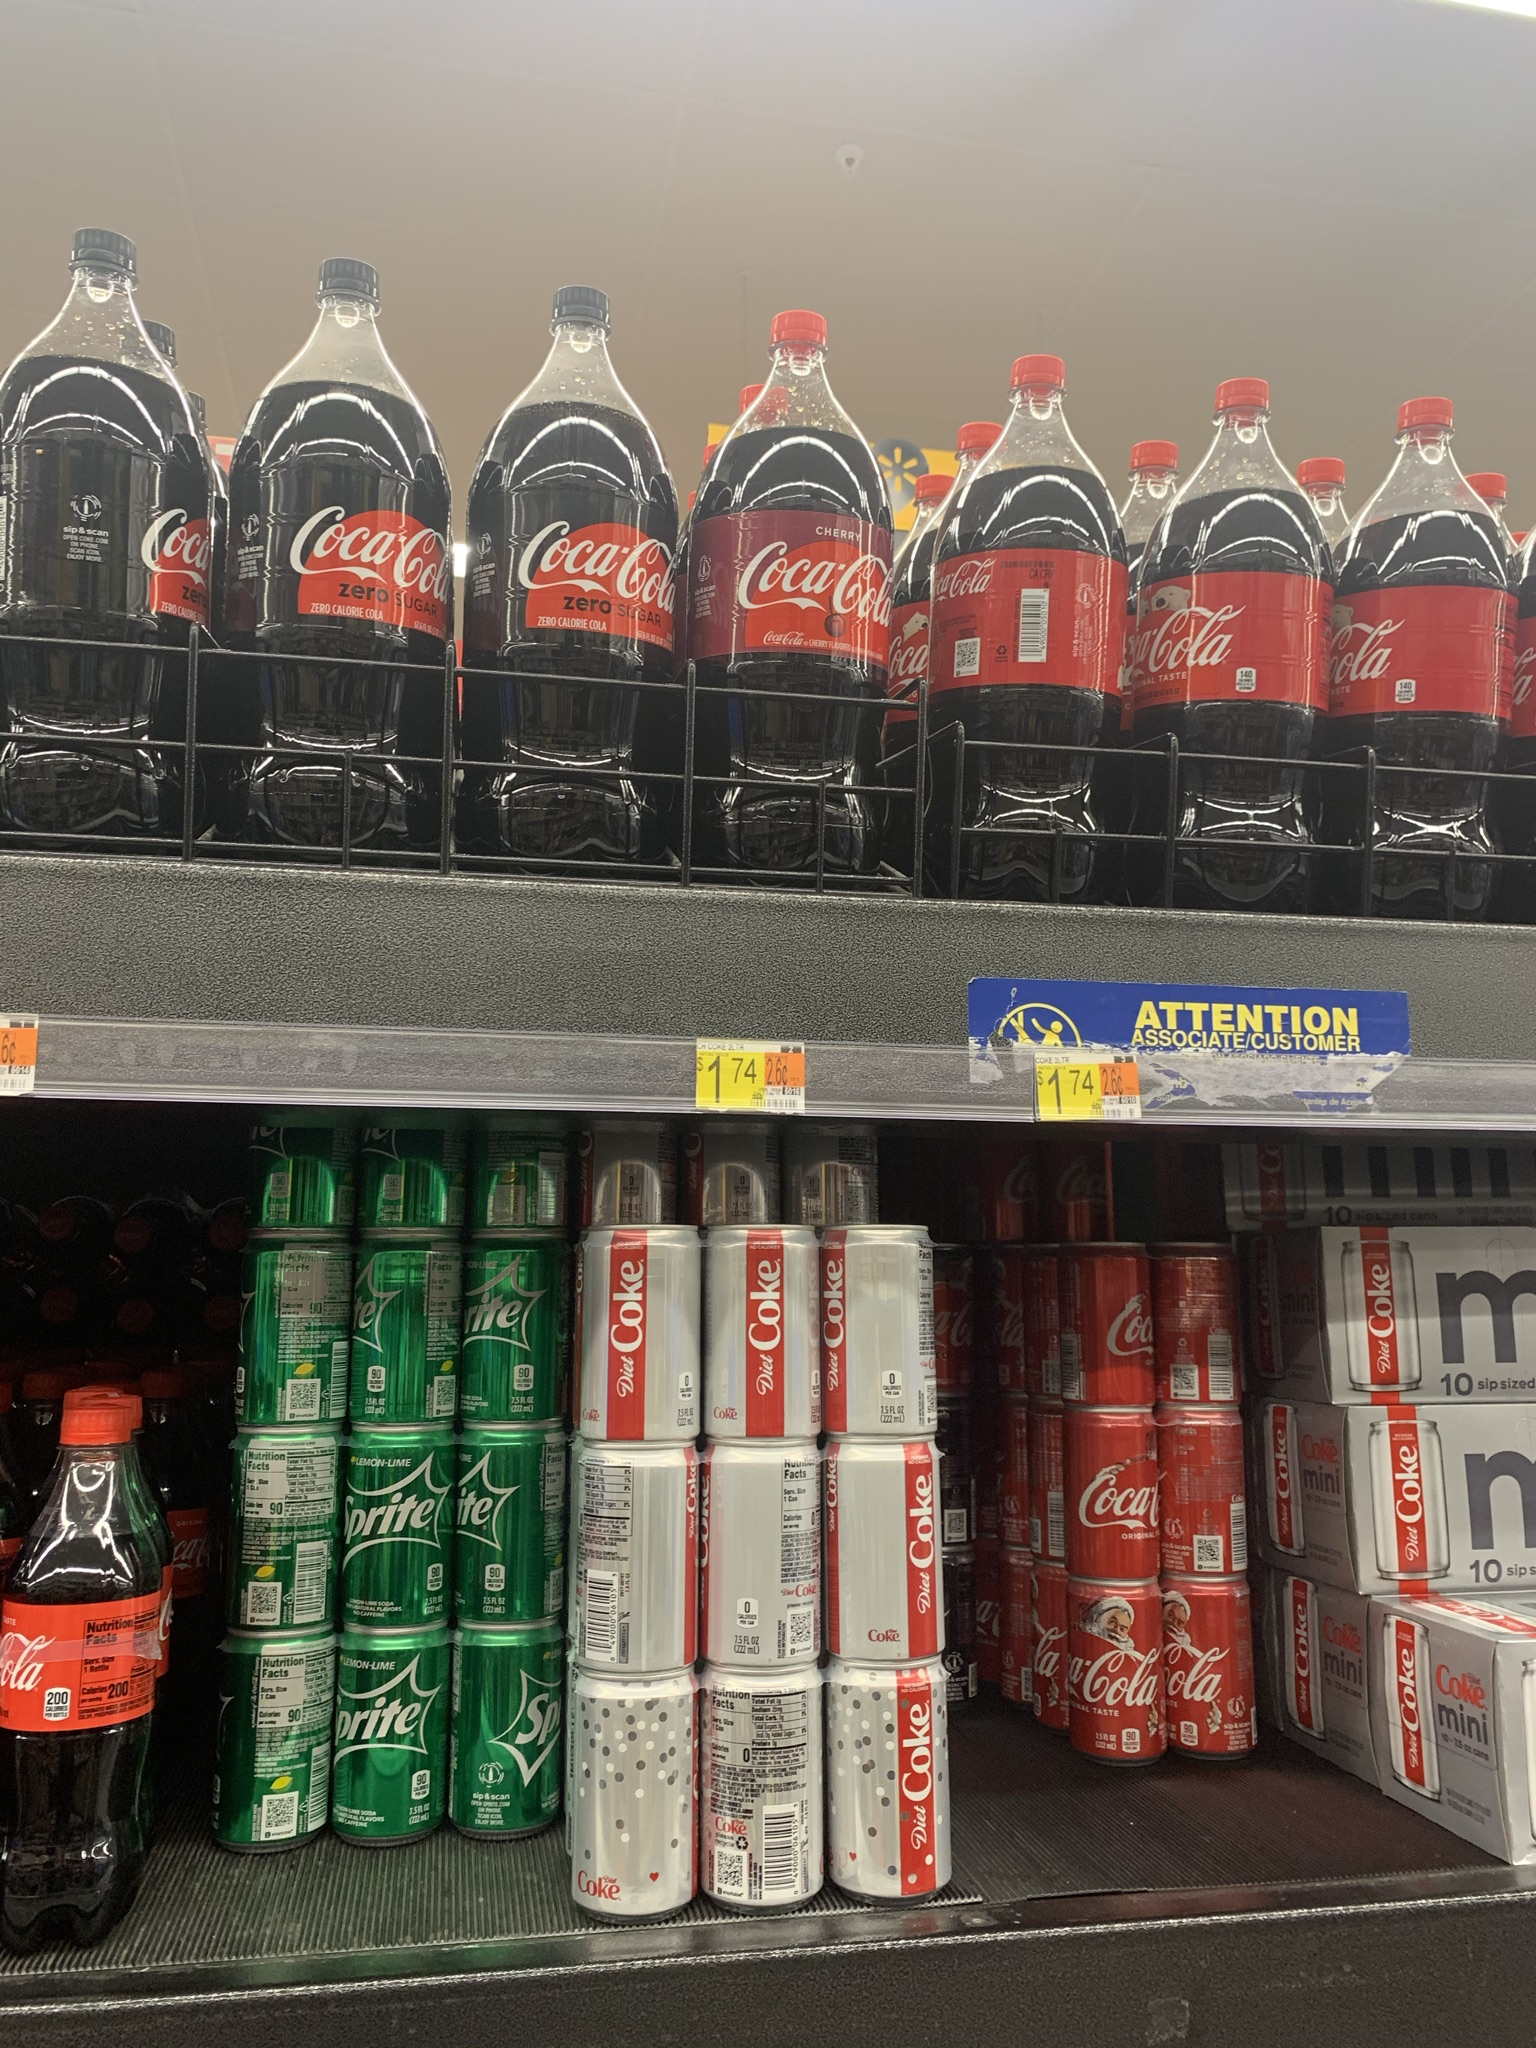Soda: (466, 1222, 570, 1432), (232, 1242, 345, 1429), (232, 1426, 337, 1624), (357, 1229, 458, 1424)
box: (1334, 1232, 1536, 1387), (1352, 1421, 1536, 1572), (1384, 1622, 1520, 1804)
can: (571, 1669, 689, 1917), (828, 1667, 954, 1900), (574, 1442, 695, 1675), (582, 1221, 703, 1448), (712, 1671, 828, 1904), (703, 1440, 821, 1669), (824, 1442, 944, 1664), (707, 1221, 821, 1450), (826, 1221, 944, 1440), (332, 1629, 452, 1843), (218, 1632, 331, 1856), (450, 1424, 565, 1625), (453, 1624, 560, 1837), (345, 1422, 452, 1634), (1063, 1580, 1170, 1763), (1167, 1579, 1258, 1758), (1065, 1413, 1158, 1580), (1163, 1403, 1252, 1577), (1065, 1238, 1154, 1403), (1162, 1235, 1241, 1409)
